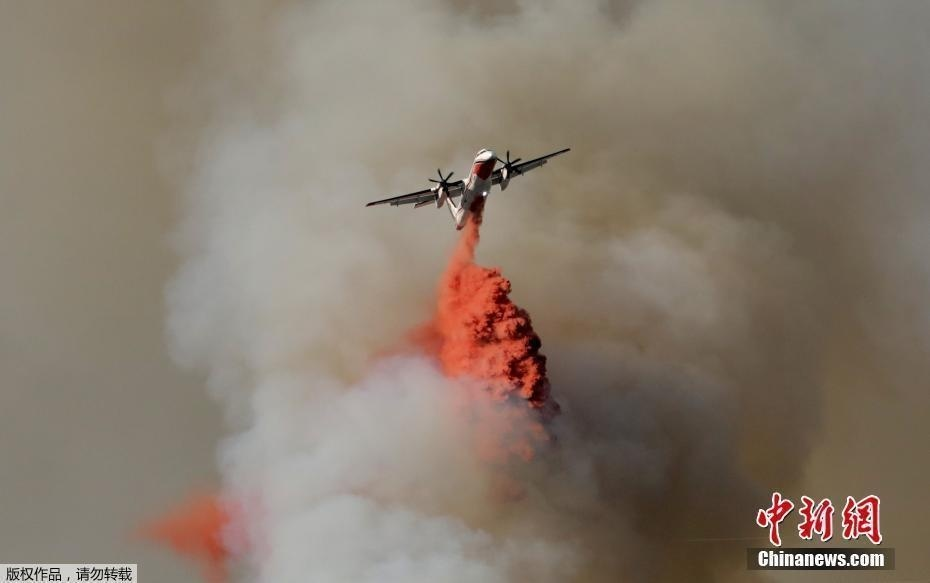fire: (139, 485, 236, 570)
